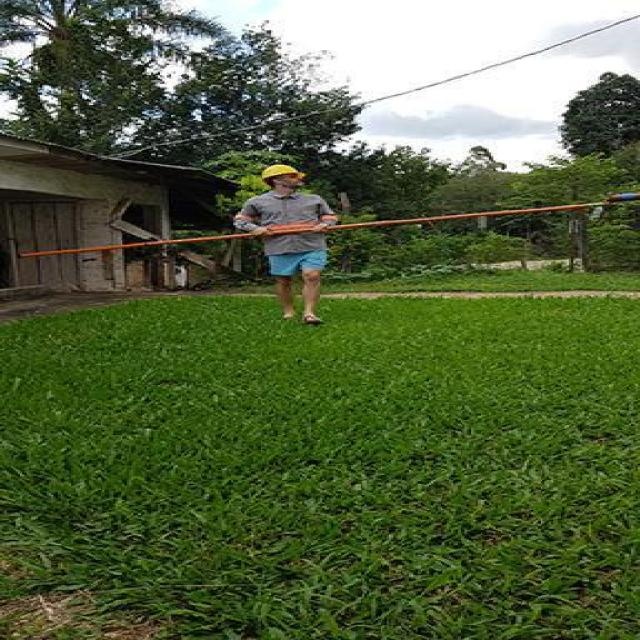hat: (258, 163, 307, 193)
